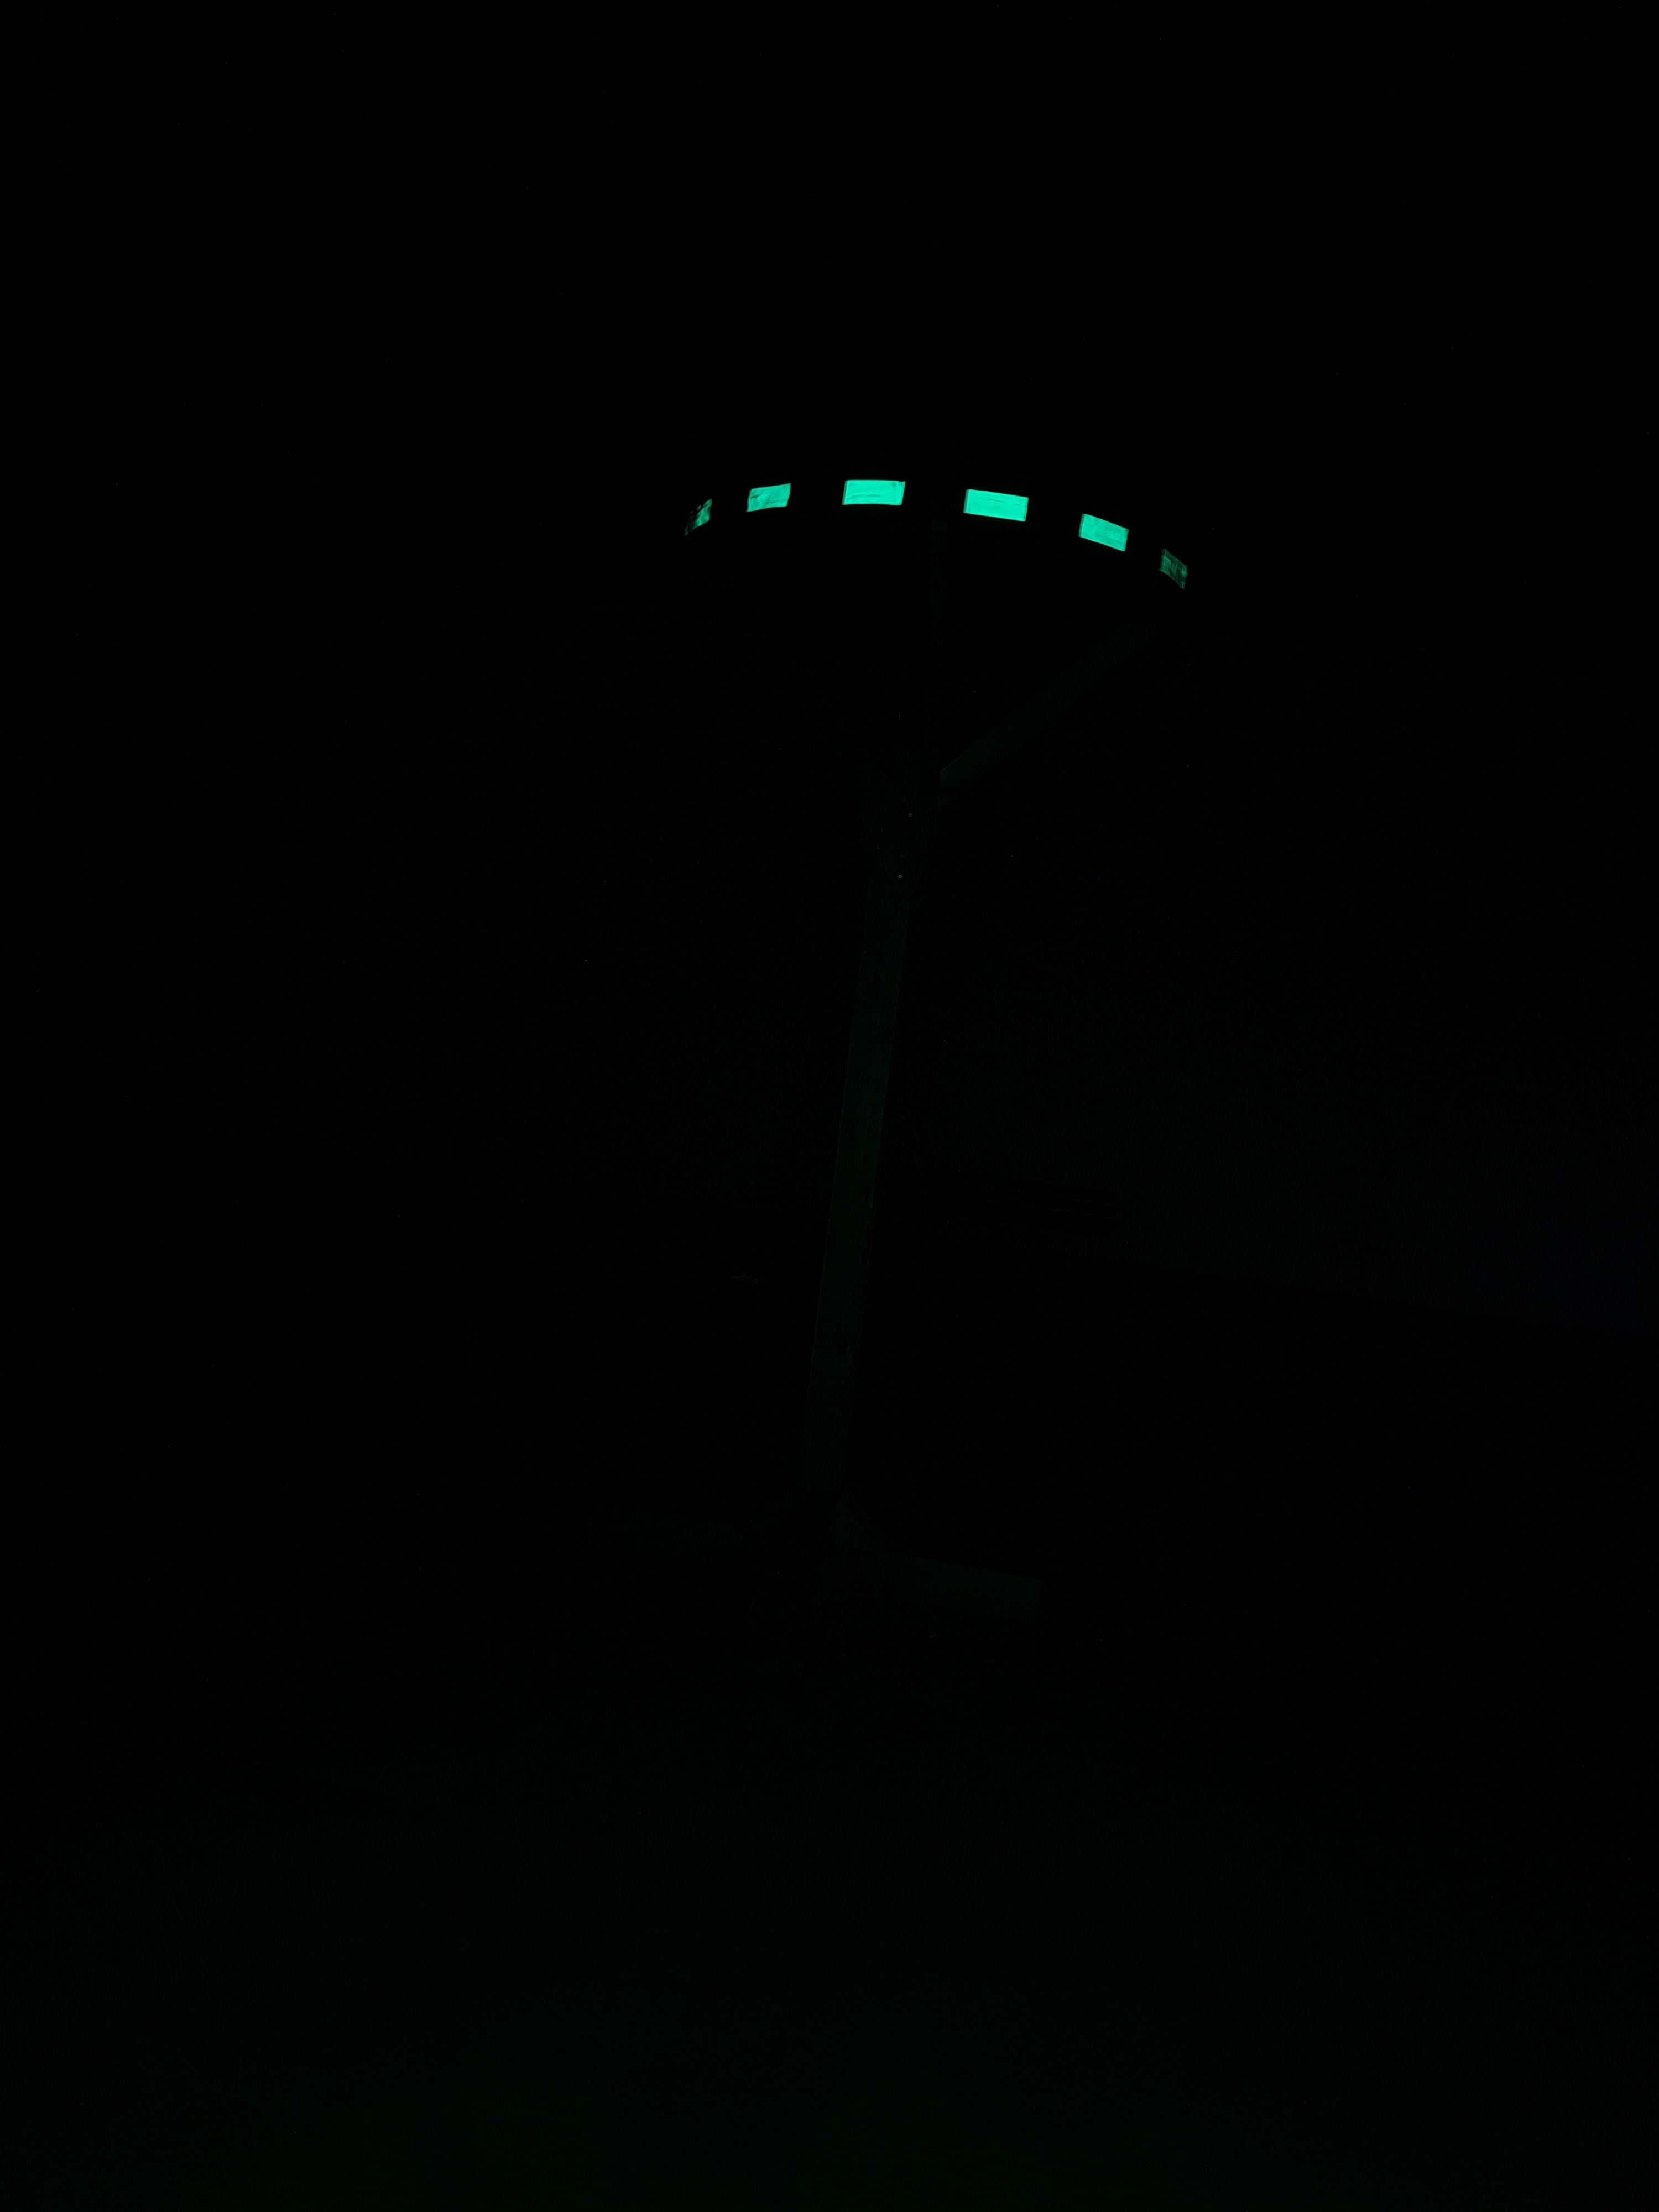hoop: (683, 453, 1194, 594)
